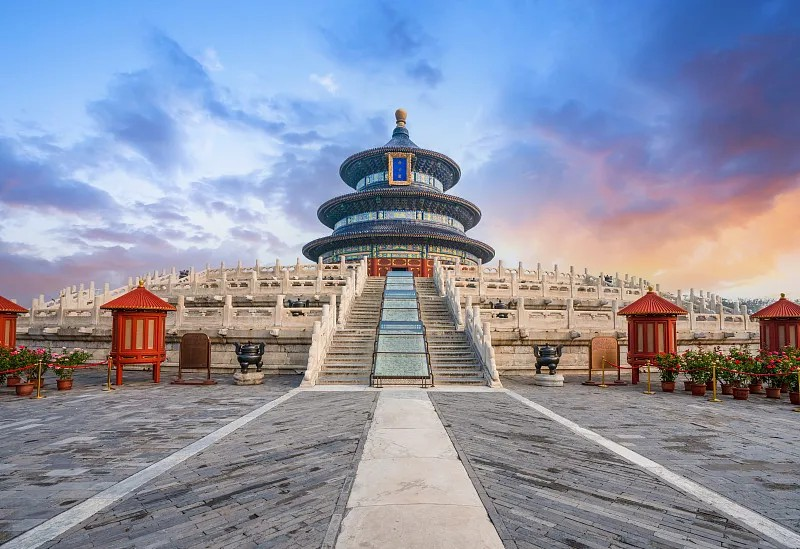Heaven: (301, 110, 495, 276)
